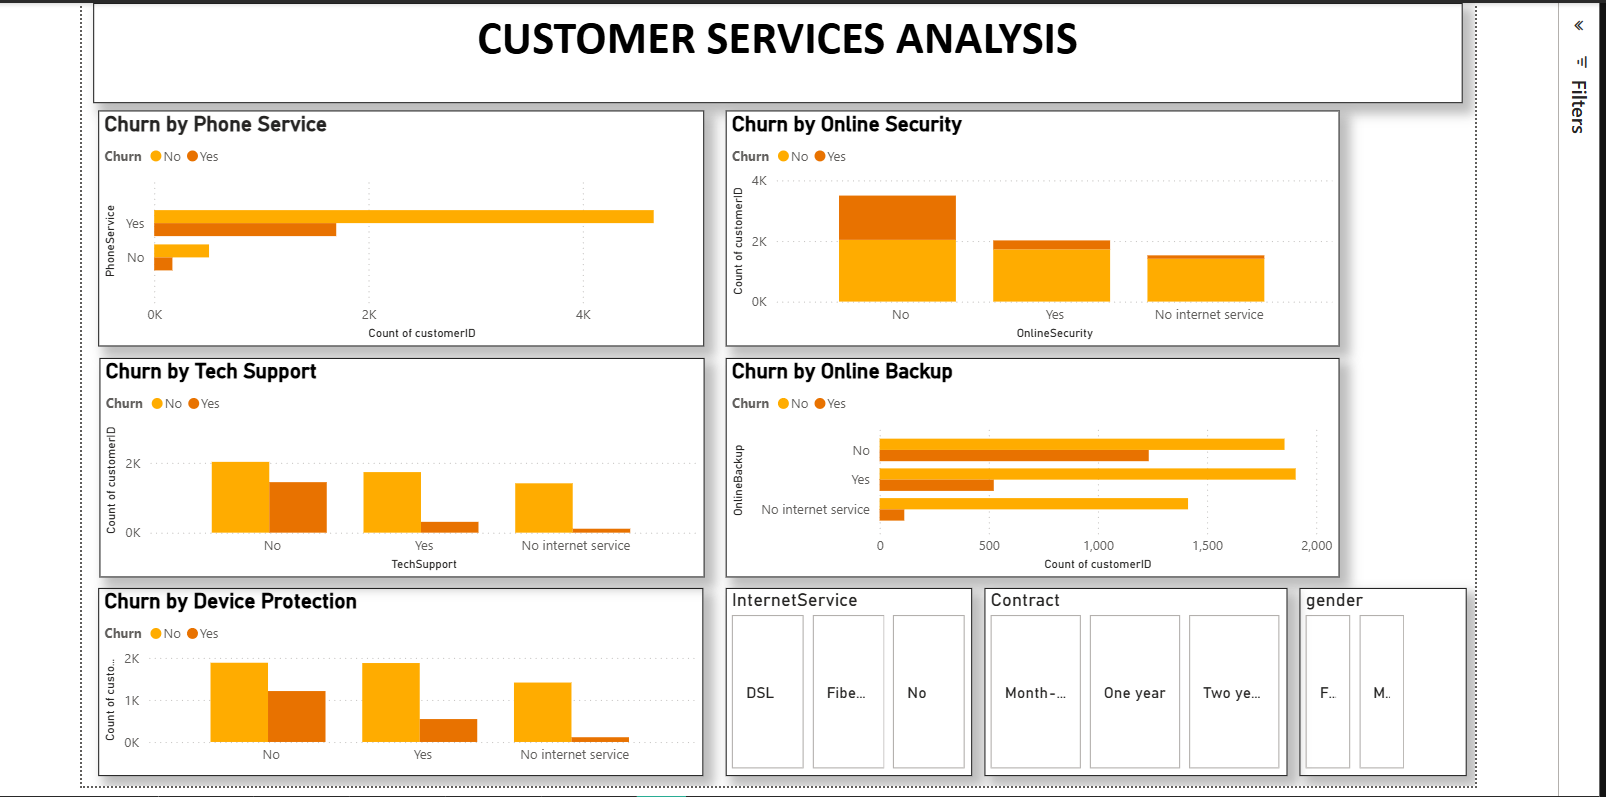

What the dashboard file says about the page in this screenshot:
{"tool":"powerbi","page":{"name":"Page 3","canvas":[1280,720],"ordinal":2},"visuals":[{"type":"textbox","box":[10,0,280,280],"z":0},{"type":"textbox","box":[10.5,0,1258.1,91.9],"z":1000},{"type":"clusteredBarChart","title":"Churn by Phone Service","fields":{"Series":["Churn_CSV.Churn"],"Category":["Churn_CSV.PhoneService"],"Y":["CountNonNull(Churn_CSV.customerID)"]},"box":[15.1,98.8,557.1,216.8],"z":2000},{"type":"lineClusteredColumnComboChart","title":"Churn by Device Protection","fields":{"Category":["Churn_CSV.DeviceProtection"],"Y":["CountNonNull(Churn_CSV.customerID)"],"Series":["Churn_CSV.Churn"]},"box":[15.1,537.9,555.7,172.9],"z":3000},{"type":"columnChart","title":"Churn by Online Security","fields":{"Category":["Churn_CSV.OnlineSecurity"],"Y":["CountNonNull(Churn_CSV.customerID)"],"Series":["Churn_CSV.Churn"]},"box":[591.4,98.8,564,216.8],"z":4000},{"type":"lineClusteredColumnComboChart","title":"Churn by Tech Support","fields":{"Category":["Churn_CSV.TechSupport"],"Y":["CountNonNull(Churn_CSV.customerID)"],"Series":["Churn_CSV.Churn"]},"box":[16.5,326.6,555.7,201.7],"z":5000},{"type":"clusteredBarChart","title":"Churn by Online Backup","fields":{"Category":["Churn_CSV.OnlineBackup"],"Y":["CountNonNull(Churn_CSV.customerID)"],"Series":["Churn_CSV.Churn"]},"box":[591.4,326.6,564,201.7],"z":6000},{"type":"advancedSlicerVisual","fields":{"Values":["Churn_CSV.gender"]},"box":[1118.4,537.9,153.7,172.9],"z":7000},{"type":"advancedSlicerVisual","fields":{"Values":["Churn_CSV.InternetService"]},"box":[591.4,537.9,226.4,172.9],"z":8000},{"type":"advancedSlicerVisual","fields":{"Values":["Churn_CSV.Contract"]},"box":[828.8,537.9,278.6,172.9],"z":9000}]}

Visuals, with their boxes in screenshot pixels (x1, y1, x2, y2):
textbox: left=86, top=0, right=393, bottom=306
textbox: left=87, top=0, right=1463, bottom=101
"Churn by Phone Service" clusteredBarChart: left=92, top=108, right=701, bottom=345
"Churn by Device Protection" lineClusteredColumnComboChart: left=92, top=589, right=700, bottom=778
"Churn by Online Security" columnChart: left=722, top=108, right=1339, bottom=345
"Churn by Tech Support" lineClusteredColumnComboChart: left=93, top=357, right=701, bottom=578
"Churn by Online Backup" clusteredBarChart: left=722, top=357, right=1339, bottom=578
advancedSlicerVisual - Churn_CSV.gender: left=1299, top=589, right=1467, bottom=778
advancedSlicerVisual - Churn_CSV.InternetService: left=722, top=589, right=970, bottom=778
advancedSlicerVisual - Churn_CSV.Contract: left=982, top=589, right=1287, bottom=778
